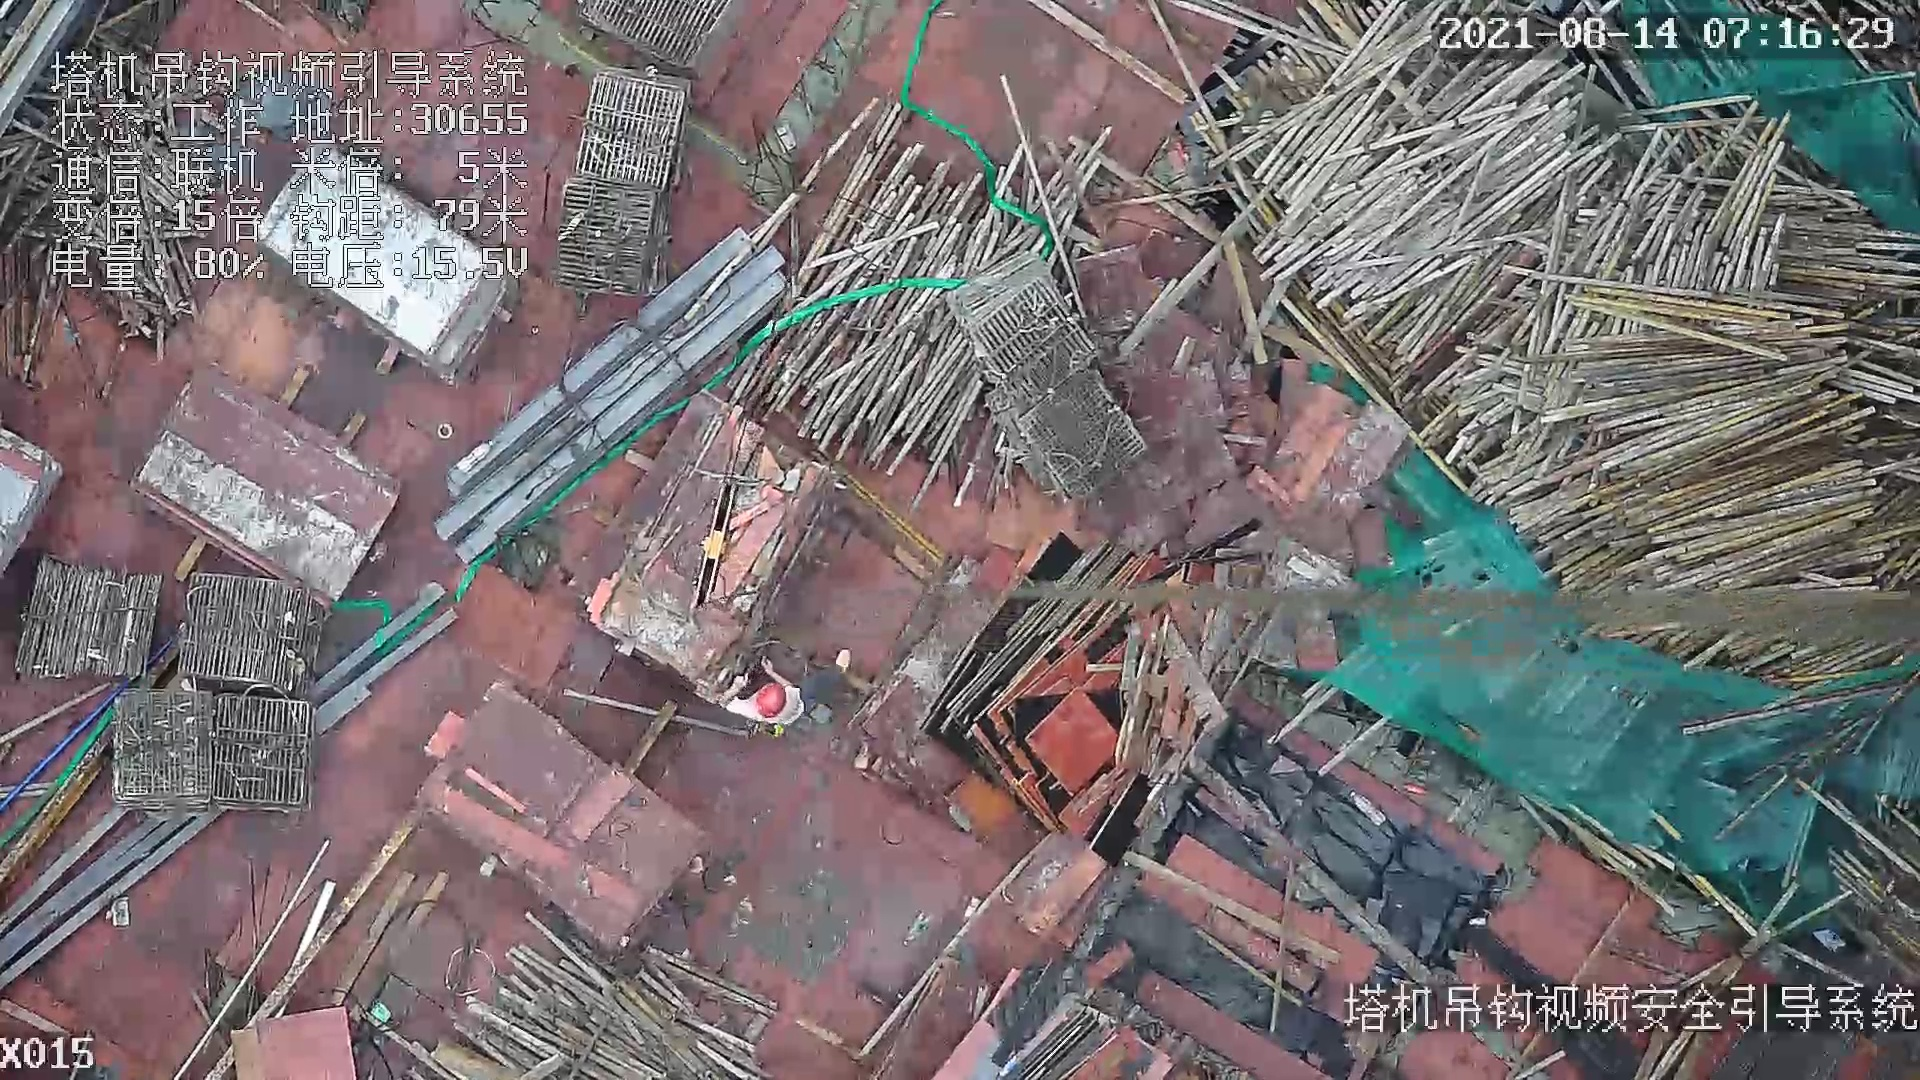helmet: (748, 679, 791, 719)
hook: (690, 477, 736, 612)
person: (719, 650, 854, 724)
